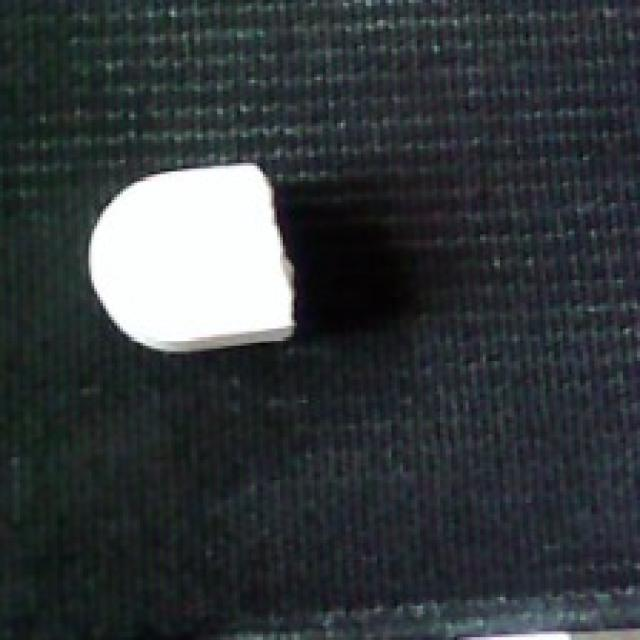defected: (83, 152, 303, 354)
